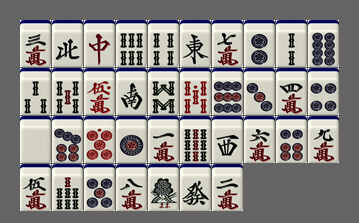0m: (84, 68, 115, 115)
0p: (84, 116, 115, 163)
0s: (180, 68, 211, 115)
1m: (148, 116, 179, 163)
1p: (116, 116, 147, 163)
1s: (148, 164, 179, 211)
1z: (180, 20, 211, 67)
2m: (212, 164, 243, 211)
2p: (244, 20, 275, 67)
2s: (276, 20, 307, 67)
2z: (116, 68, 147, 115)
3m: (20, 20, 51, 67)
3p: (244, 68, 275, 115)
3s: (20, 68, 51, 115)
3z: (212, 116, 243, 163)
4m: (276, 68, 307, 115)
4p: (308, 68, 339, 115)
4s: (148, 20, 179, 67)
4z: (52, 20, 83, 67)
5m: (20, 164, 51, 211)
5p: (84, 164, 115, 211)
5s: (52, 68, 83, 115)
5z: (20, 116, 51, 163)
6m: (244, 116, 275, 163)
6p: (276, 116, 307, 163)
6s: (116, 20, 147, 67)
6z: (180, 164, 211, 211)
7m: (212, 20, 243, 67)
7p: (52, 116, 83, 163)
7s: (52, 164, 83, 211)
7z: (84, 20, 115, 67)
8m: (116, 164, 147, 211)
8p: (308, 20, 339, 67)
8s: (148, 68, 179, 115)
9m: (308, 116, 339, 163)
9p: (212, 68, 243, 115)
9s: (180, 116, 211, 163)
